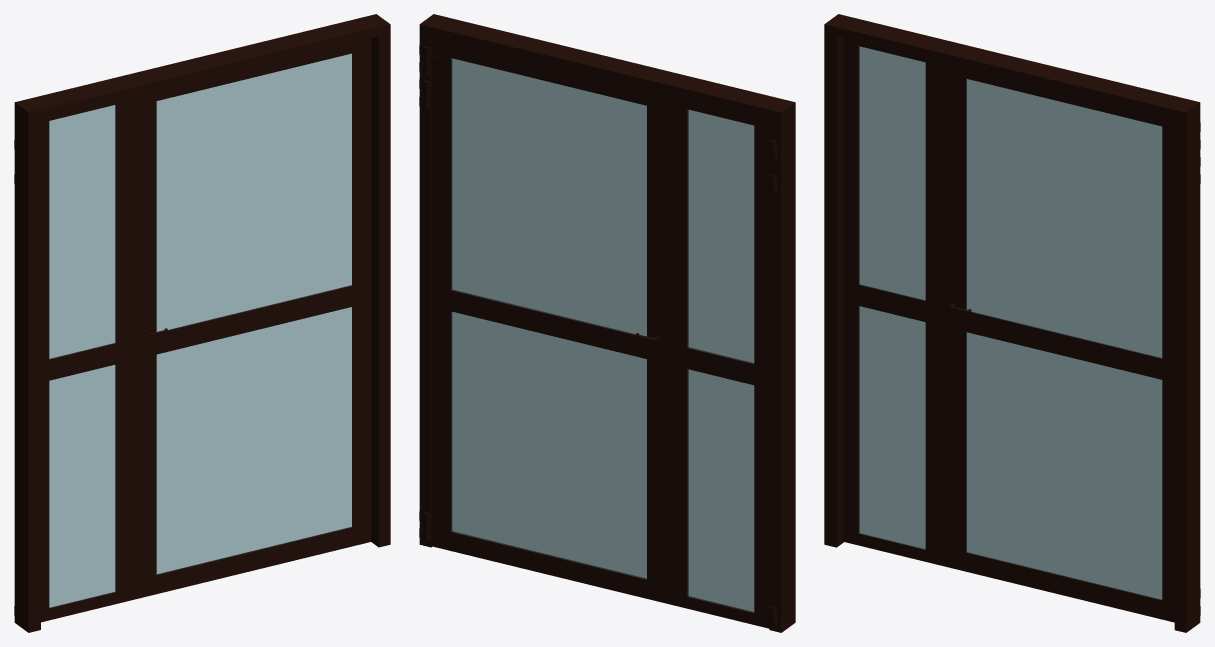
File: Stairscase Doors 2.fbx
3 renders of one model, left to right at view 1: azimuth 30°, elevation 25°; view 2: azimuth 150°, elevation 25°; view 3: azimuth 330°, elevation 25°, orthographic.
Parts seen in each view (by area): view 1: DoorWing0P.006, DoorWing0L.007, DoorFrame0.006; view 2: DoorWing0P.006, DoorWing0L.007, DoorFrame0.006; view 3: DoorWing0P.006, DoorWing0L.007, DoorFrame0.006.
Boxes of the visible parts, x1,y1,x2,y2 form: DoorWing0P.006: [139, 38, 371, 598]; DoorWing0L.007: [41, 95, 138, 622]; DoorFrame0.006: [14, 14, 390, 632]; DoorWing0P.006: [423, 36, 664, 602]; DoorWing0L.007: [664, 93, 776, 628]; DoorFrame0.006: [419, 14, 795, 632]; DoorWing0P.006: [948, 63, 1174, 622]; DoorWing0L.007: [843, 38, 948, 567]; DoorFrame0.006: [824, 14, 1200, 632].
Size of the model in its own units: 149 by 205 by 13.32.
